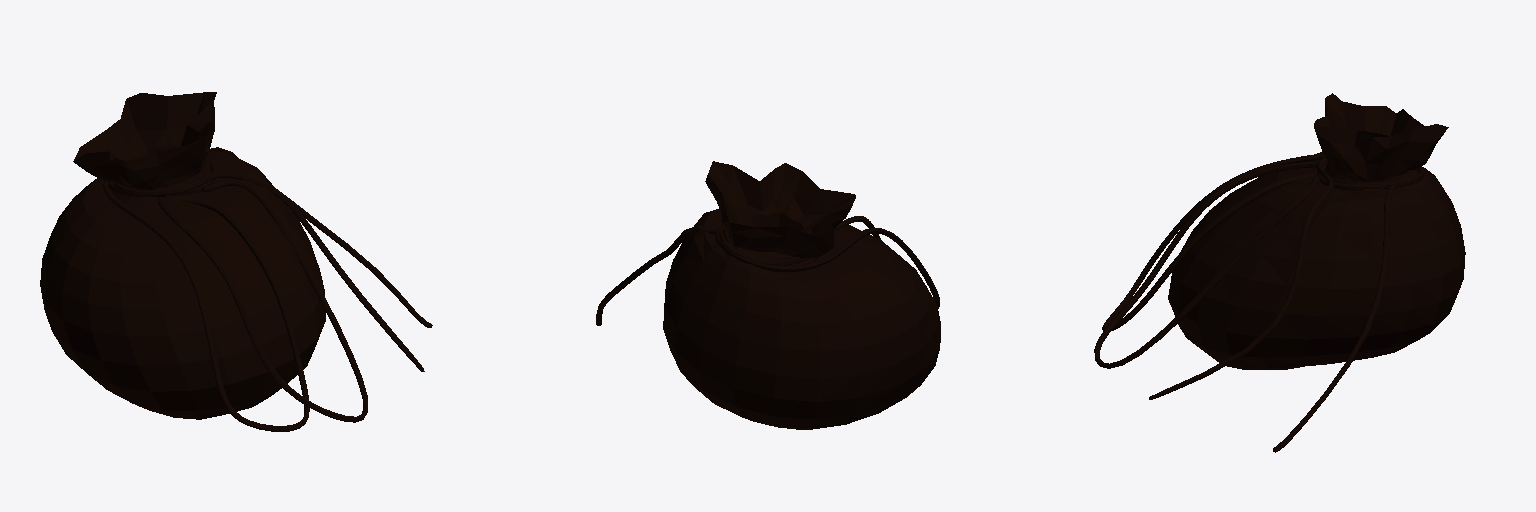
The model's file is bag.obj.
3 renders of one model, left to right at view 1: azimuth 30°, elevation 25°; view 2: azimuth 150°, elevation 25°; view 3: azimuth 270°, elevation 25°, orthographic.
Parts seen in each view (by area): view 1: BAG_still_life.022; view 2: BAG_still_life.022; view 3: BAG_still_life.022.
Boxes of the visible parts, x1=… form: BAG_still_life.022: x1=40, y1=92, x2=432, y2=431; BAG_still_life.022: x1=596, y1=161, x2=940, y2=429; BAG_still_life.022: x1=1094, y1=93, x2=1465, y2=452.
Size of the model in its own units: 0.6959 by 0.4859 by 0.6422.